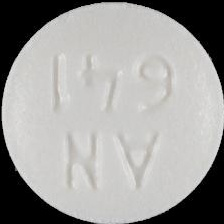60687-225: (0, 0, 224, 224)
